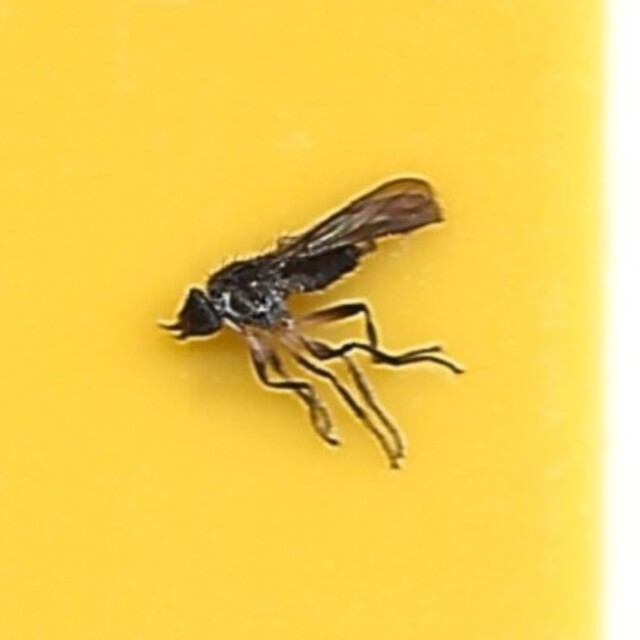Brachycera: (172, 173, 468, 467)
